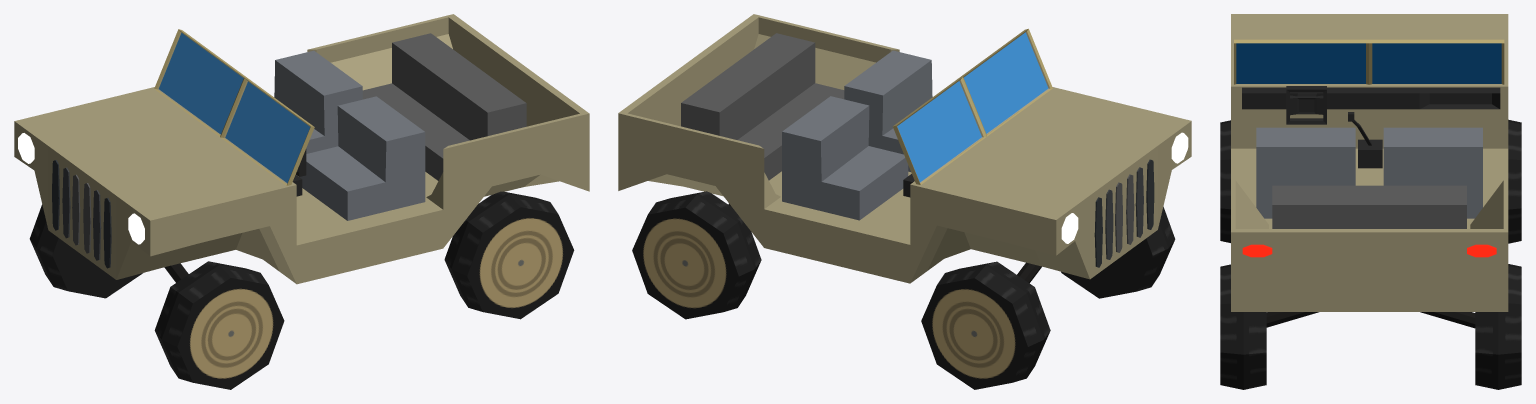
Rendered from jeep.fbx.
The picture shows the model from 3 angles, left to right: view 1: azimuth 30°, elevation 25°; view 2: azimuth 150°, elevation 25°; view 3: azimuth 270°, elevation 25°; orthographic projection. The views are drawn at different scales.
Parts seen in each view (by area): view 1: chassis, bancAV, RoueAVD.002, RoueAVD.001, bancARR, vitre.001, RoueAVD, Cylinder.003, vitre, Cylinder; view 2: chassis, bancAV, RoueAVD, RoueAVD.003, bancARR, vitre.001, RoueAVD.002, Cylinder.003, vitre, Cylinder; view 3: chassis, bancAV, vitre.001, bancARR, Dash, RoueAVD.003, RoueAVD.001, vitre, RoueAVD, RoueAVD.002, Essieu, Cylinder.005.
Part boxes in pixels (bbox=[...]): chassis: bbox=[14, 14, 589, 284]; bancAV: bbox=[274, 50, 425, 220]; RoueAVD.002: bbox=[154, 261, 284, 389]; RoueAVD.001: bbox=[444, 191, 574, 319]; bancARR: bbox=[362, 33, 526, 180]; vitre.001: bbox=[157, 32, 310, 183]; RoueAVD: bbox=[29, 204, 142, 298]; Cylinder.003: bbox=[52, 160, 111, 268]; vitre: bbox=[154, 29, 314, 185]; Cylinder: bbox=[18, 133, 144, 244]; chassis: bbox=[618, 14, 1191, 283]; bancAV: bbox=[782, 50, 932, 220]; RoueAVD: bbox=[921, 261, 1050, 389]; RoueAVD.003: bbox=[632, 191, 761, 319]; bancARR: bbox=[681, 33, 844, 180]; vitre.001: bbox=[897, 32, 1049, 182]; RoueAVD.002: bbox=[1061, 206, 1175, 298]; Cylinder.003: bbox=[1094, 159, 1154, 267]; vitre: bbox=[893, 28, 1052, 184]; Cylinder: bbox=[1061, 132, 1188, 243]; chassis: bbox=[1231, 14, 1508, 311]; bancAV: bbox=[1256, 127, 1482, 218]; vitre.001: bbox=[1236, 43, 1501, 83]; bancARR: bbox=[1272, 185, 1466, 228]; Dash: bbox=[1242, 86, 1500, 168]; RoueAVD.003: bbox=[1475, 264, 1521, 389]; RoueAVD.001: bbox=[1220, 264, 1266, 389]; vitre: bbox=[1234, 39, 1504, 84]; RoueAVD: bbox=[1508, 119, 1521, 243]; RoueAVD.002: bbox=[1220, 120, 1230, 242]; Essieu: bbox=[1266, 312, 1475, 328]; Cylinder.005: bbox=[1242, 244, 1496, 257].
Size of the model in its own units: 789 by 412 by 455.
